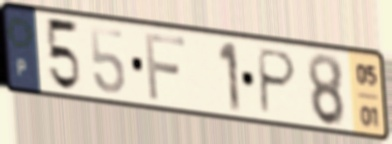1: (216, 39, 244, 115)
5: (41, 14, 83, 94), (87, 23, 127, 96)
8: (305, 49, 348, 131)
F: (142, 30, 188, 103)
P: (257, 45, 300, 117)
